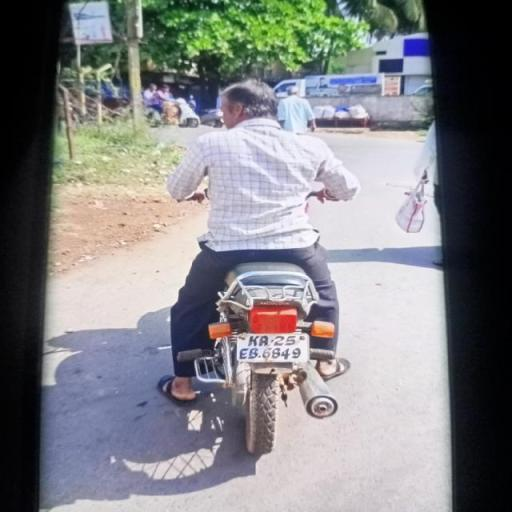bike: (151, 70, 361, 466)
numberplate: (236, 332, 308, 366)
withouthelmet: (221, 81, 280, 123)
